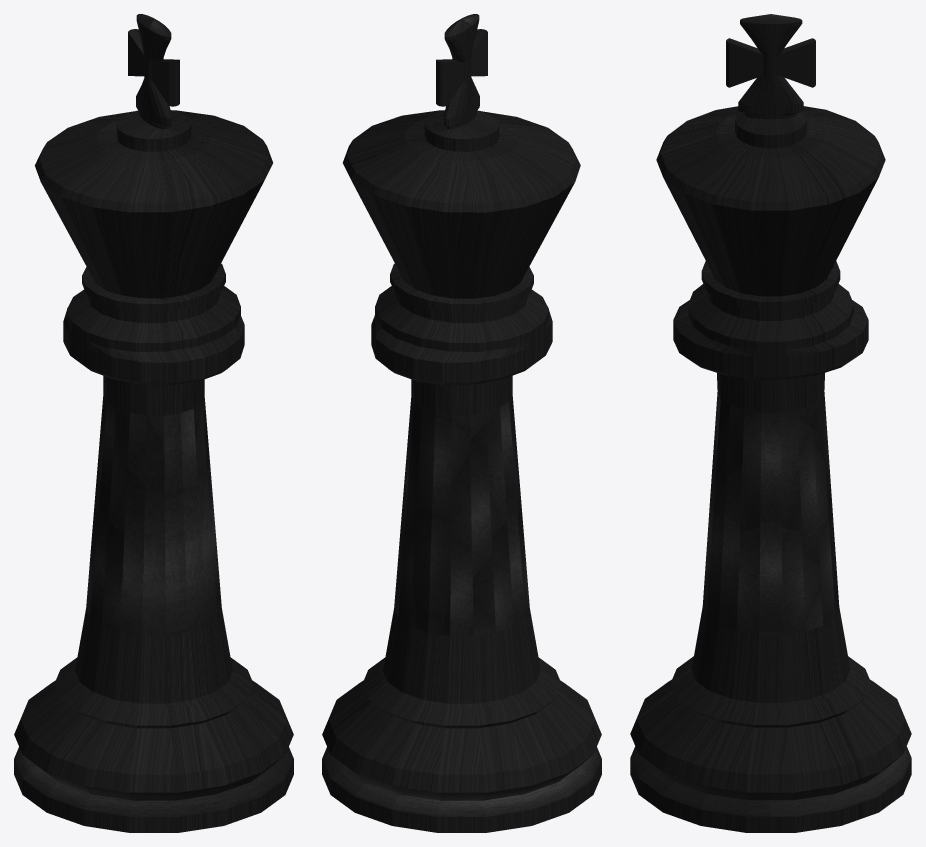
File: b_king.obj
3 renders of one model, left to right at view 1: azimuth 30°, elevation 25°; view 2: azimuth 150°, elevation 25°; view 3: azimuth 270°, elevation 25°, orthographic.
Size of the model in its own units: 0.1422 by 0.4363 by 0.1443.
1 material, 1 textured.
